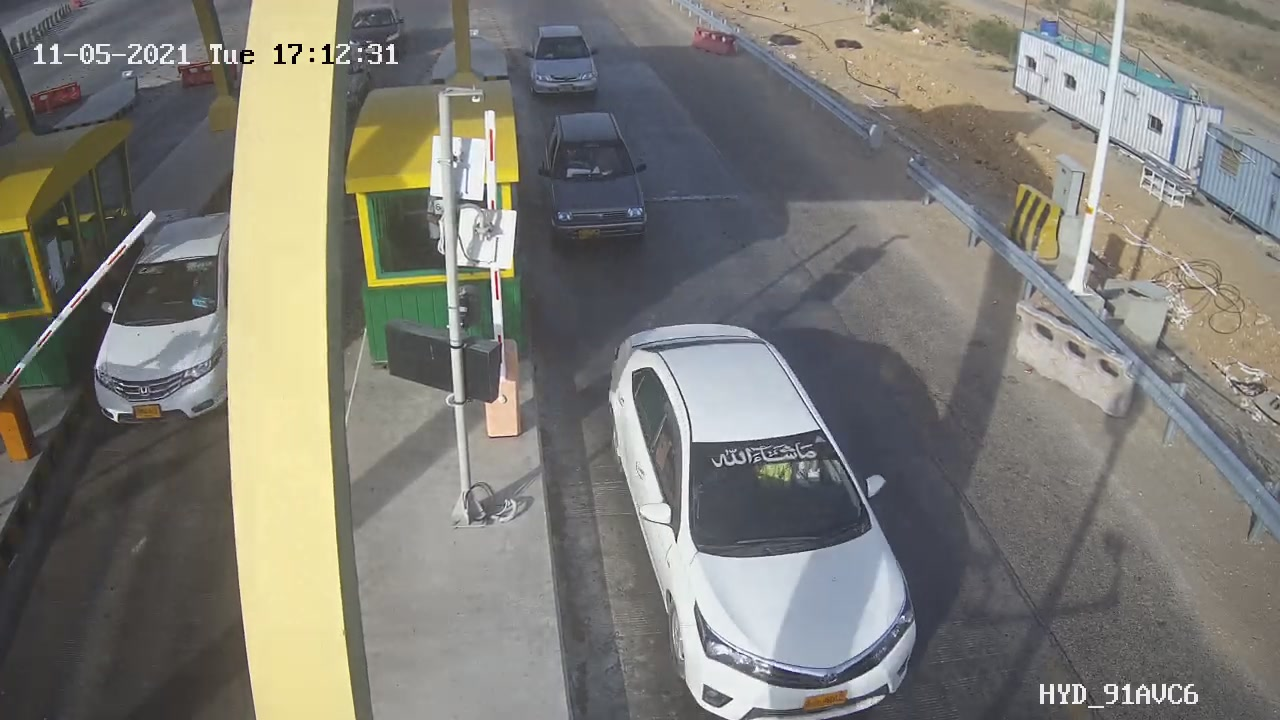F1: (527, 95, 676, 259)
